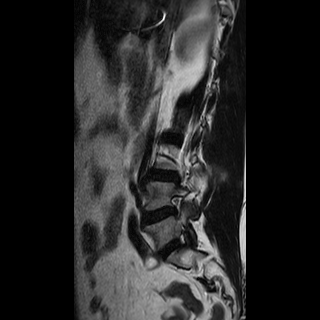RFS1: (163, 190, 190, 222)
